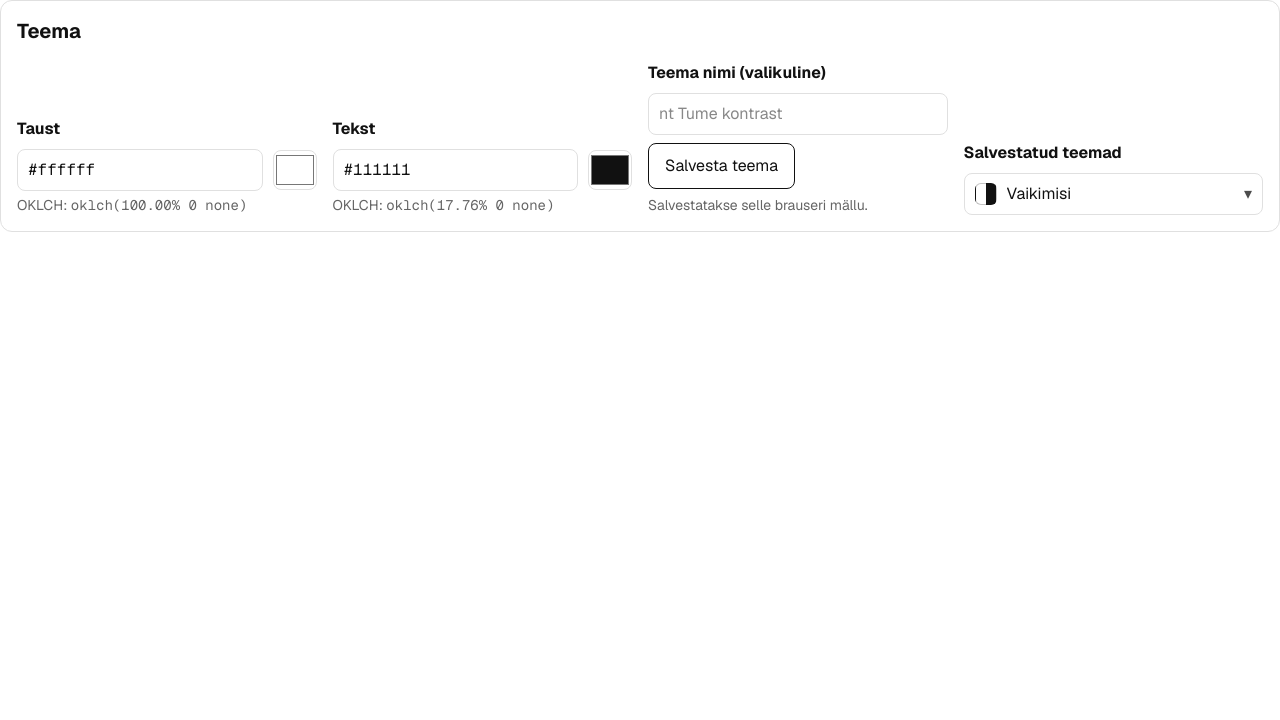
Test case: ThemePicker › previews a typed hex colour on the page as OKLCH
Replace the text in the field labelled "Taust" with "00fbff" at (140, 170), box [17,149,262,191]
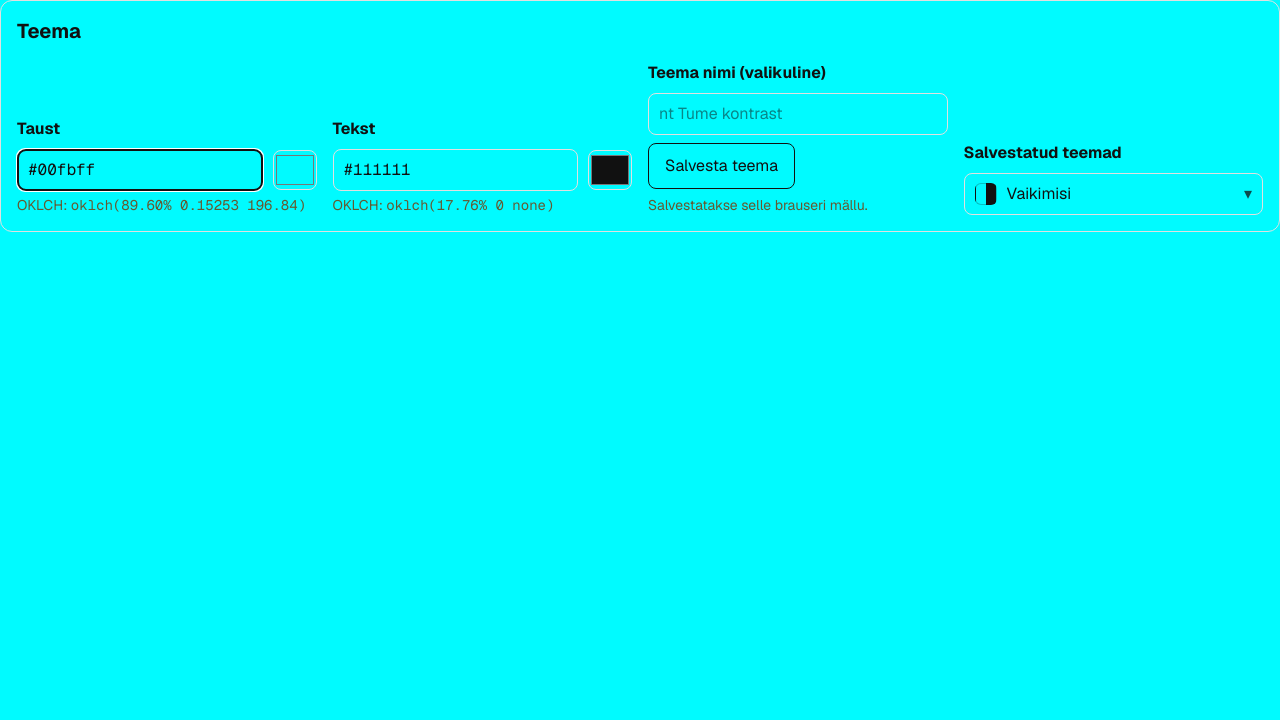
Result: the colour field named "Taust: värvivalija" holds "#00fbff" at [272,150,316,190]
